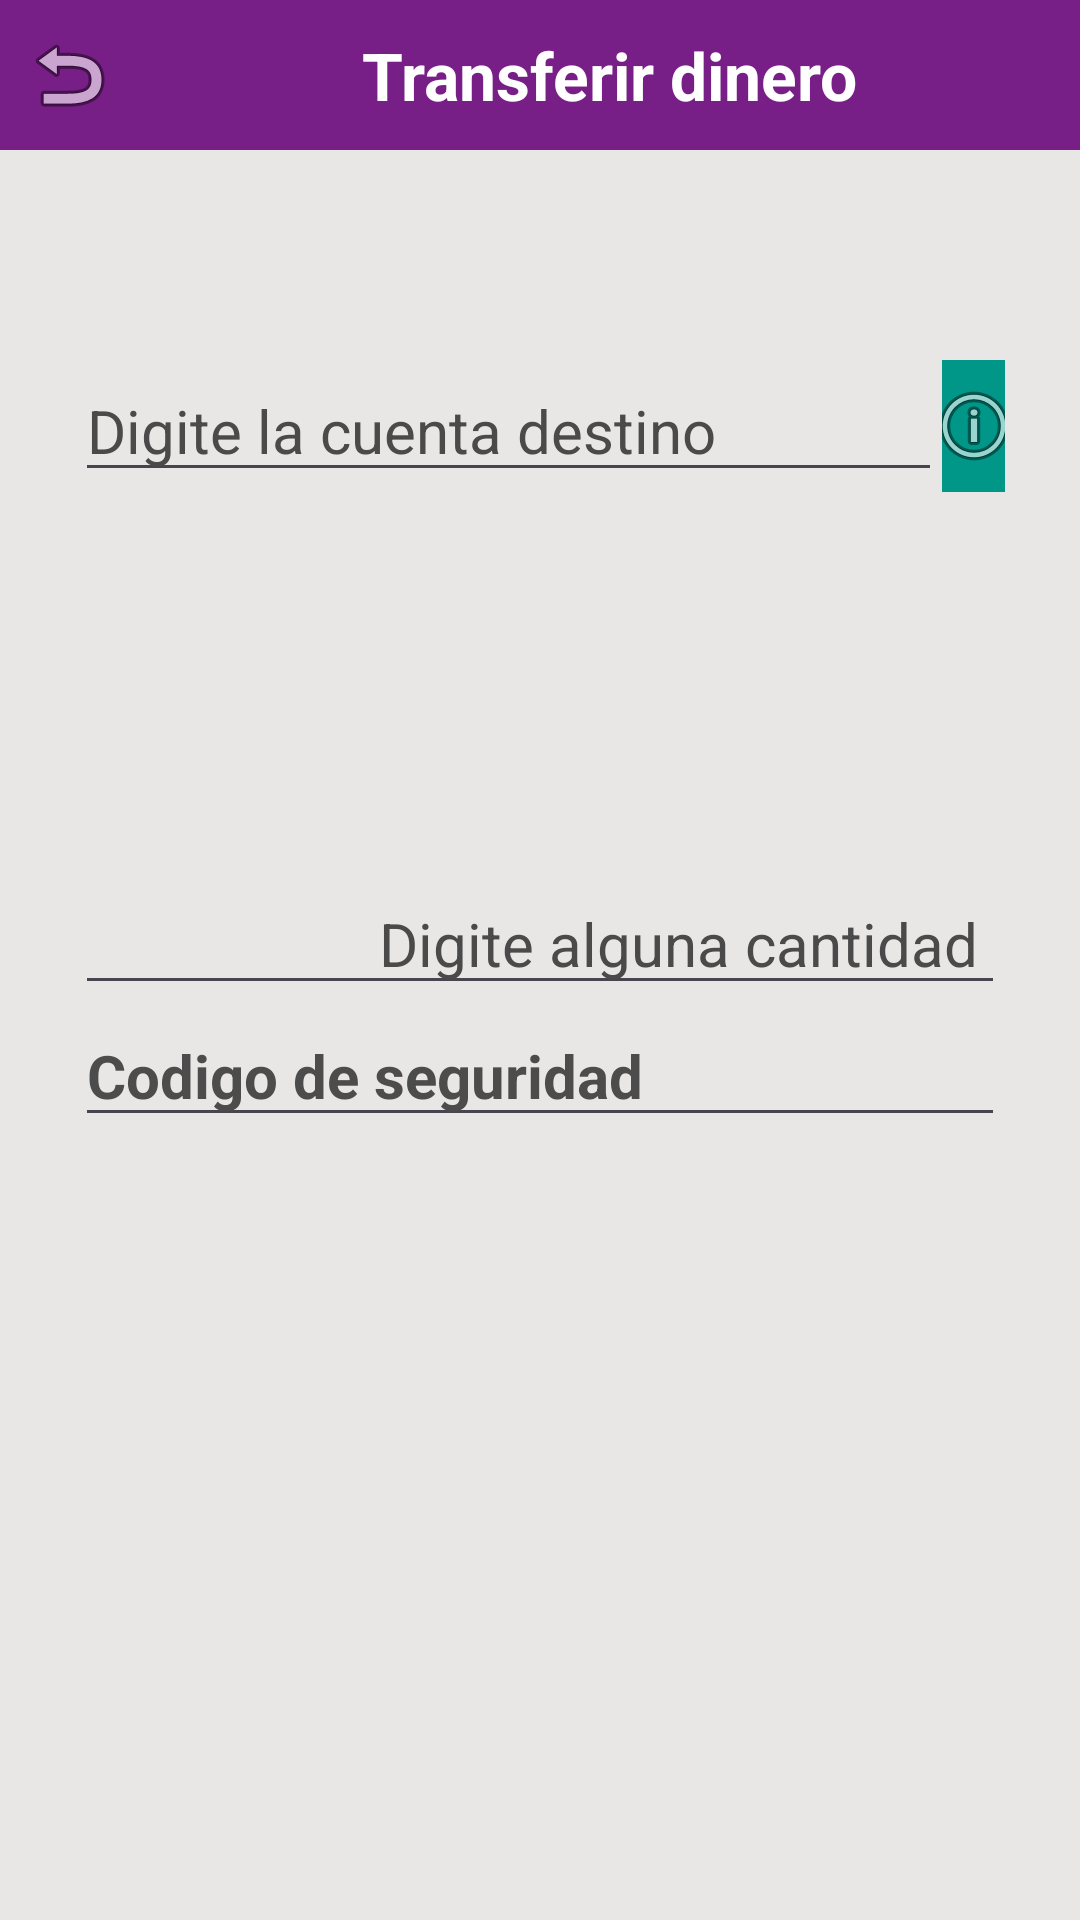

Icons on this 1080 x 1920 Android screen, each with the point to tap as [x,y]:
info details: [973,426]
revert: [70,76]
